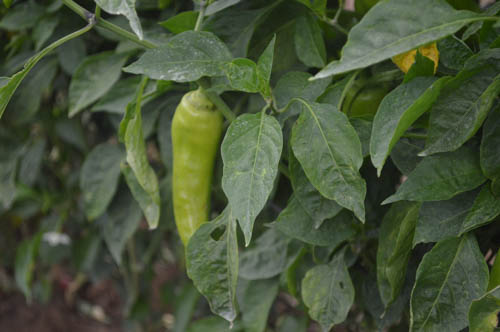ChiliPepper: (169, 99, 223, 253)
